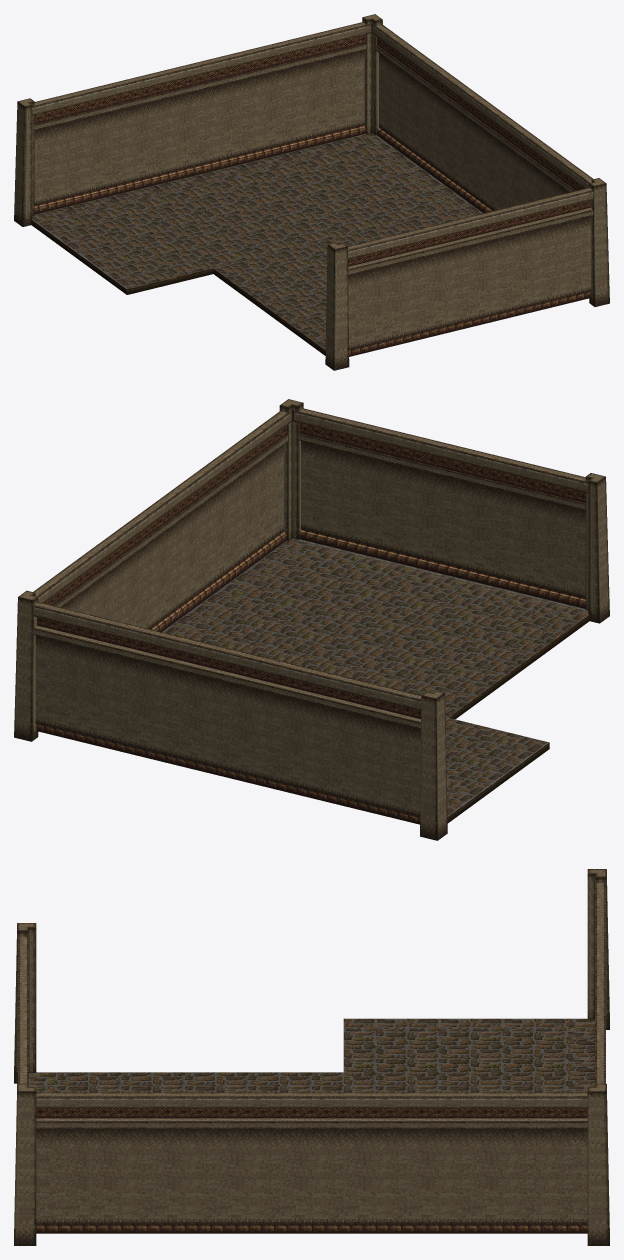
File: EnvBdgMD_Wilderness_C_Indoor_Inn_A.FBX
3 views of the same model, one above another, from view 1: azimuth 30°, elevation 25°; view 2: azimuth 150°, elevation 25°; view 3: azimuth 270°, elevation 25° (orthographic). The views are drawn at different scales.
Visible parts, largest first — view 1: EnvBdgMD_Wilderness_C_Indoor_Inn_A; view 2: EnvBdgMD_Wilderness_C_Indoor_Inn_A; view 3: EnvBdgMD_Wilderness_C_Indoor_Inn_A.
Boxes of the visible parts, box(x1,y1,x2,y2) form: EnvBdgMD_Wilderness_C_Indoor_Inn_A: box(14, 14, 609, 370); EnvBdgMD_Wilderness_C_Indoor_Inn_A: box(14, 399, 609, 840); EnvBdgMD_Wilderness_C_Indoor_Inn_A: box(14, 869, 609, 1245).
Size of the model in its own units: 1677 by 530 by 1875.
1 material, 1 textured.
